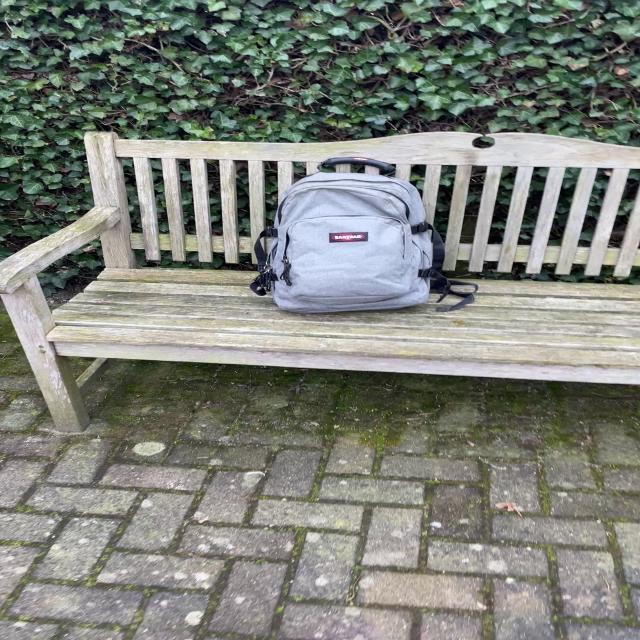backpack: (246, 153, 450, 318)
